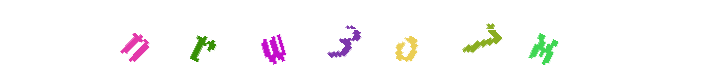3: (317, 0, 397, 80)
7: (404, 0, 484, 80)
M: (503, 0, 583, 80)
N: (162, 0, 242, 80)
O: (375, 0, 455, 80)
R: (168, 0, 248, 80)
W: (306, 0, 386, 80)
